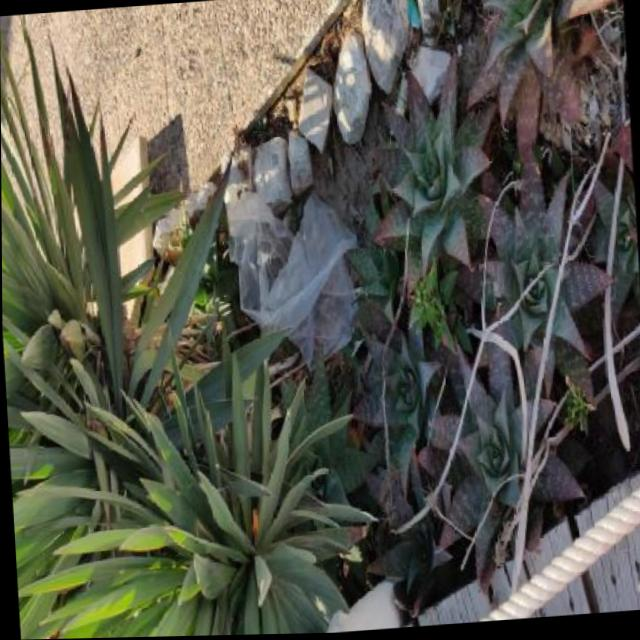plastic: (225, 175, 370, 383)
